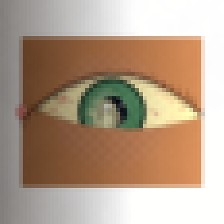corneal_ulcer: (75, 94, 136, 142)
